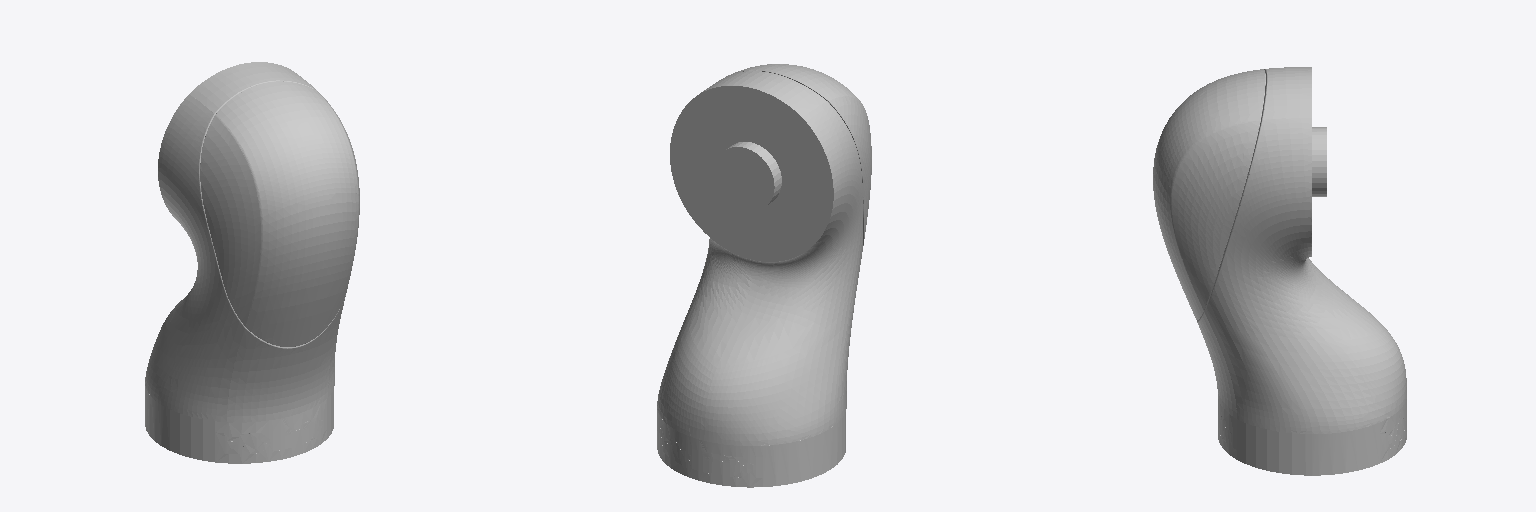
3 renders of one model, left to right at view 1: azimuth 30°, elevation 25°; view 2: azimuth 150°, elevation 25°; view 3: azimuth 270°, elevation 25°, orthographic.
Parts seen in each view (by area): view 1: /ambf/env/Link2; view 2: /ambf/env/Link2; view 3: /ambf/env/Link2.
Part boxes in pixels (x1,y1,x2,y2): /ambf/env/Link2: (145,62,359,463); /ambf/env/Link2: (657,64,871,487); /ambf/env/Link2: (1153,67,1406,475).
Size of the model in its own units: 0.1385 by 0.2901 by 0.186.